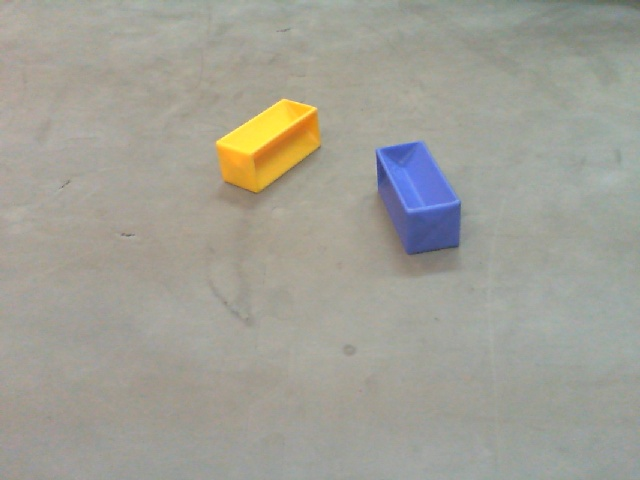BlueSample: (371, 137, 464, 258)
YellowSample: (213, 95, 325, 196)
